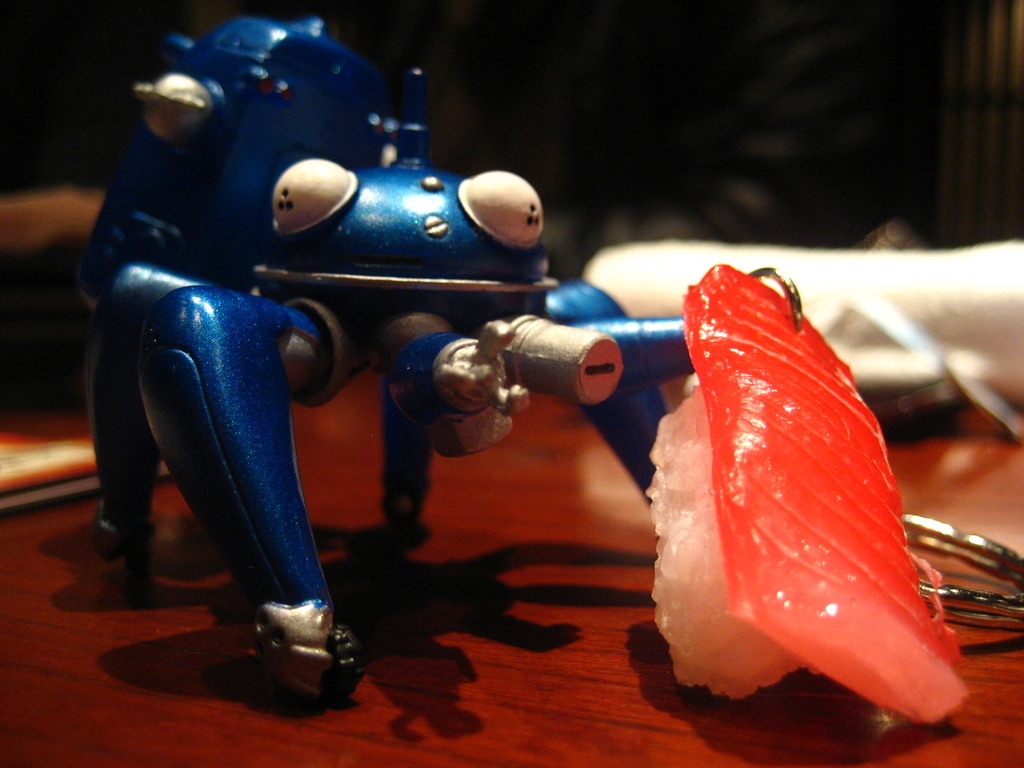sushi: (643, 311, 952, 730)
